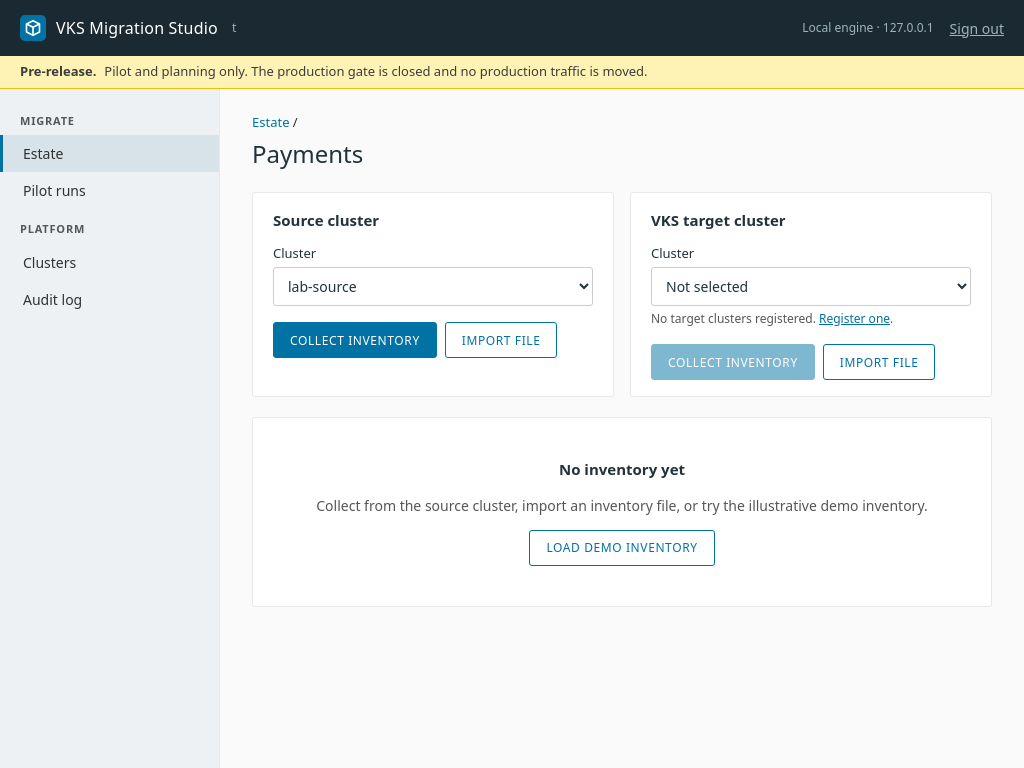
Test: project page › starts a collection and shows its progress
Expected: the button "Collect inventory" below "clusters registered." is disabled, [651,344,815,380]
Step 1. Click the 1st button "Collect inventory" → (355, 340), box [273,322,437,358]
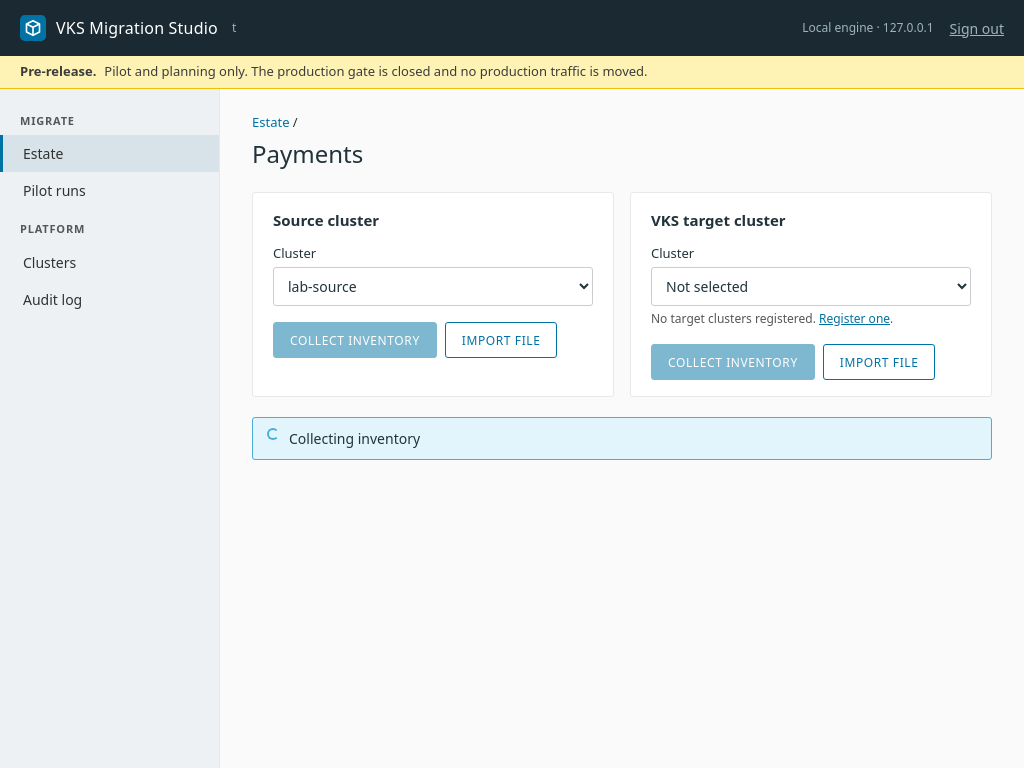
Result: the text "Collecting inventory" is shown at [289,429,420,448]
